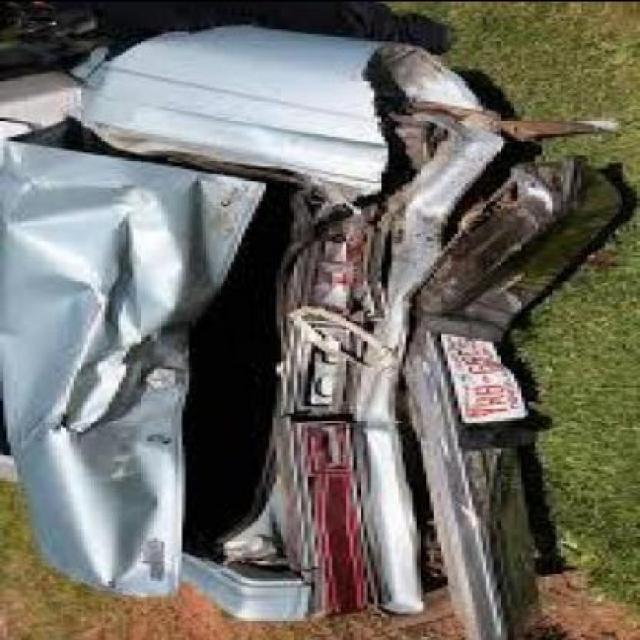damage: (4, 49, 629, 609)
